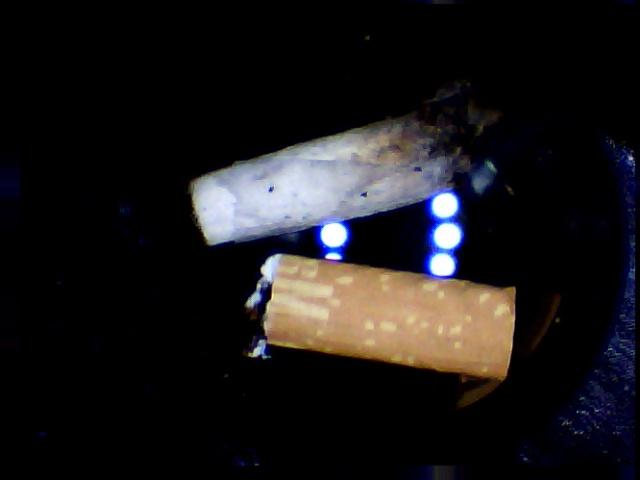megot: (173, 73, 495, 242), (233, 244, 524, 394)
